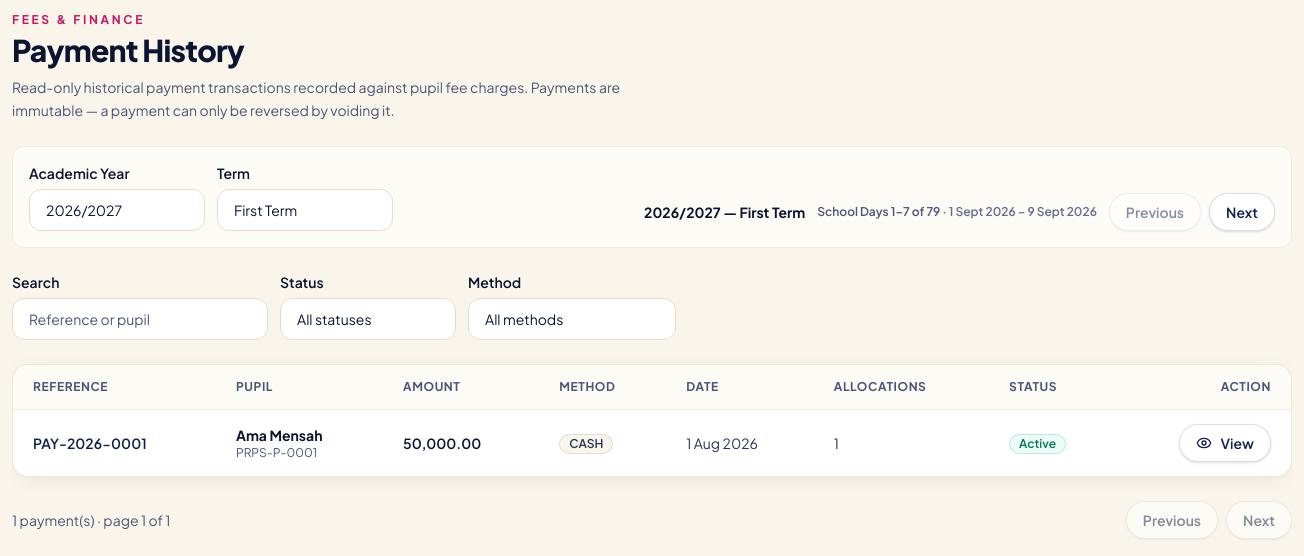
Test: PaymentsPage › switches history when the session changes
This screenshot has width=1304, height=556.
Select "2027/2028" in the dropdown labelled "Academic Year" at [117, 210], box [29,188,205,230]
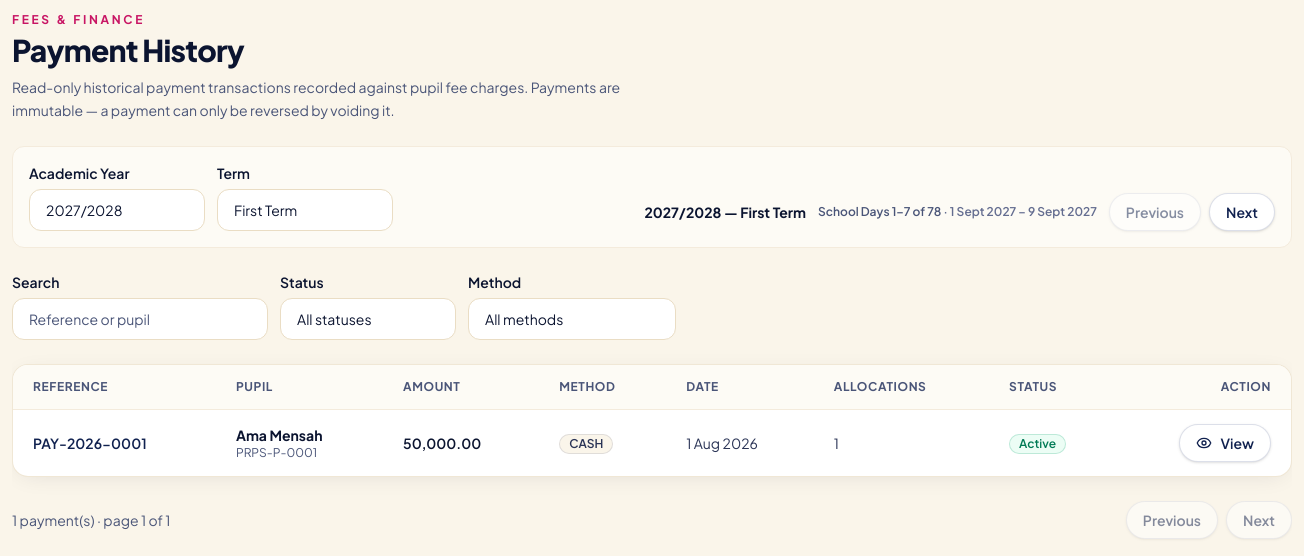
expect the text "2027/2028 — First Term" is shown: met, box [644,202,806,222]
